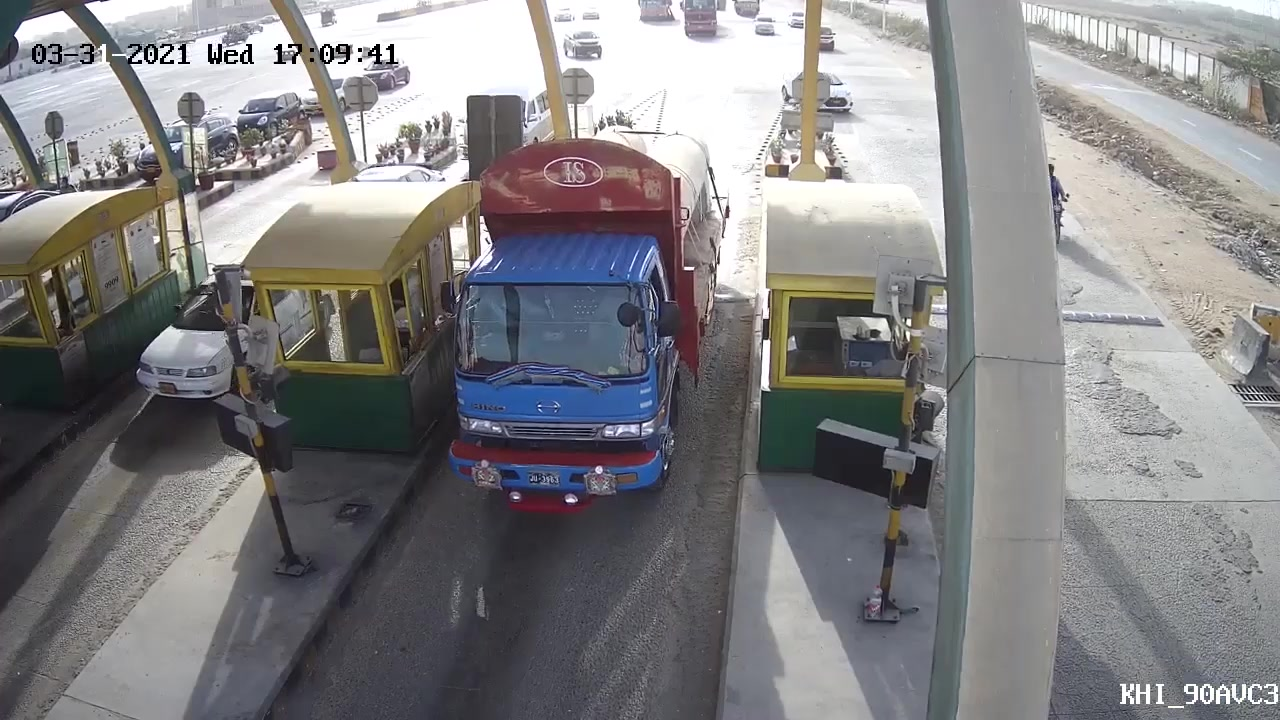F5: (422, 138, 727, 519)
